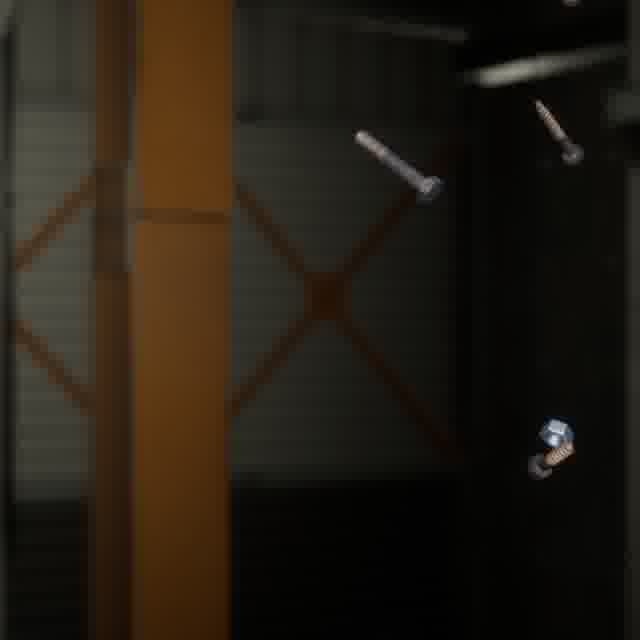bolt: (350, 125, 446, 207), (530, 96, 588, 169), (522, 436, 578, 484)
nut: (535, 415, 578, 452)
